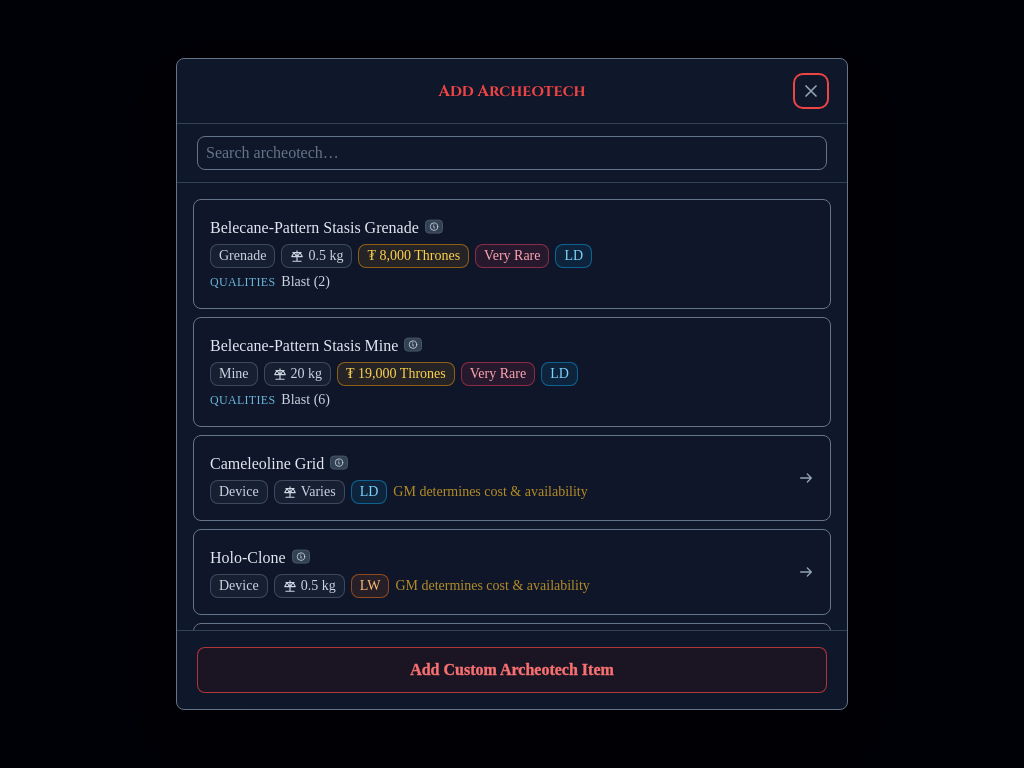
it: ArcheotechPickerModal › opens the GM-assigned-values step for an item with unknown cost/availability
Click the button "Cameleoline Grid" at (267,463), box [193,435,831,521]
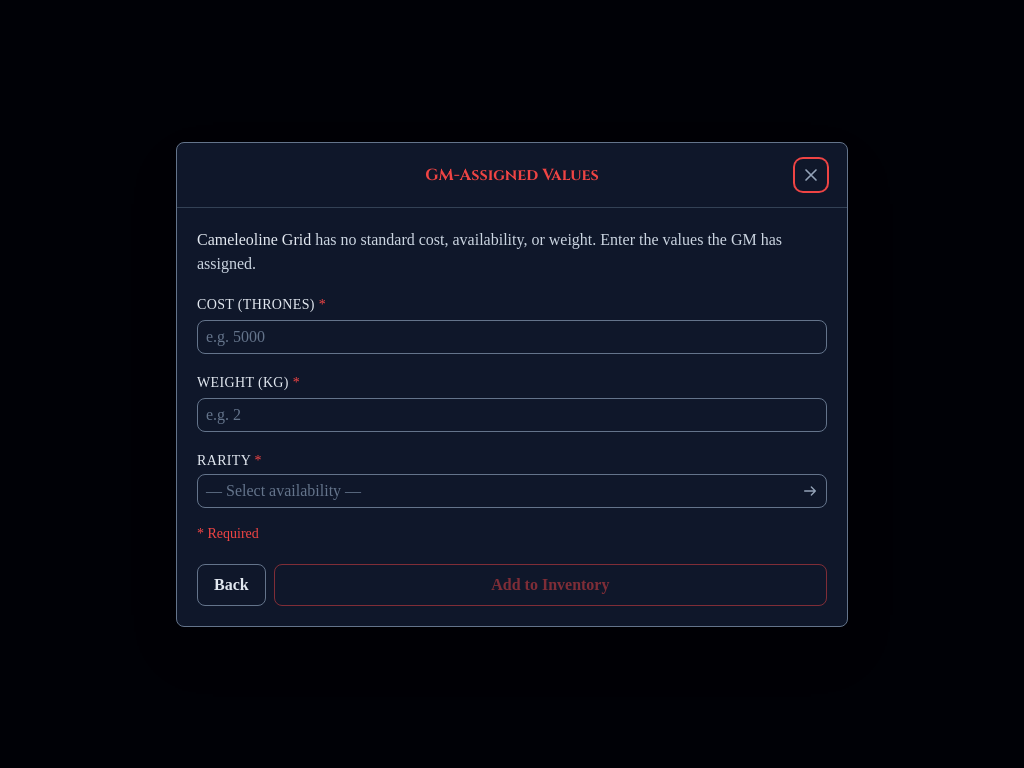
Expected: the text "has no standard cost" is shown, [197,230,782,272]
